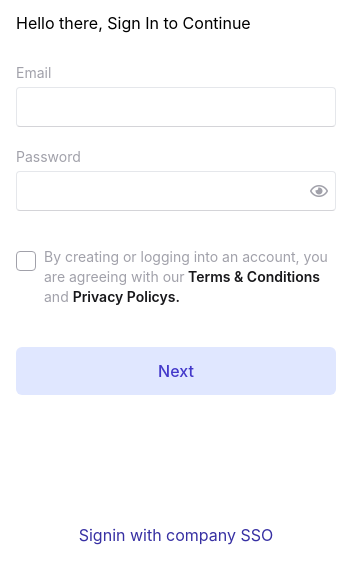
Scenario: SignIn component › should enable the submit button when form is valid
// Fill in the form fields with valid data
Type "test@example.com" into the field with test id "emailInput" at (176, 107), box [16,87,336,127]
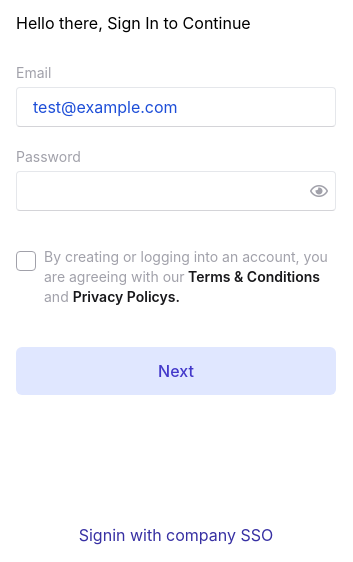
Type "password123" into the password field with test id "passwordInput" at (176, 191), box [16,171,336,211]
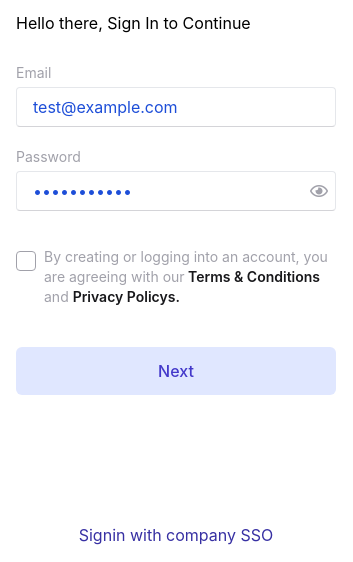
Click the checkbox with test id "checkBoxInput" at (26, 261), box [16,251,36,271]
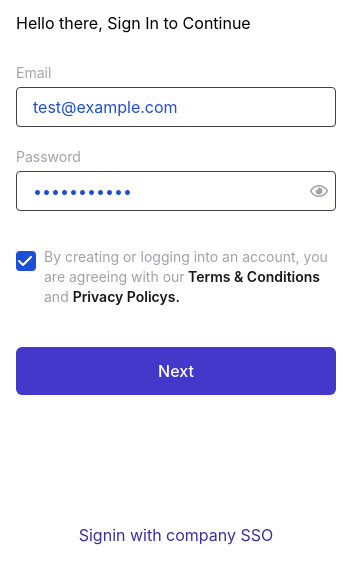
expect the button is enabled: met, box [16,347,336,395]
